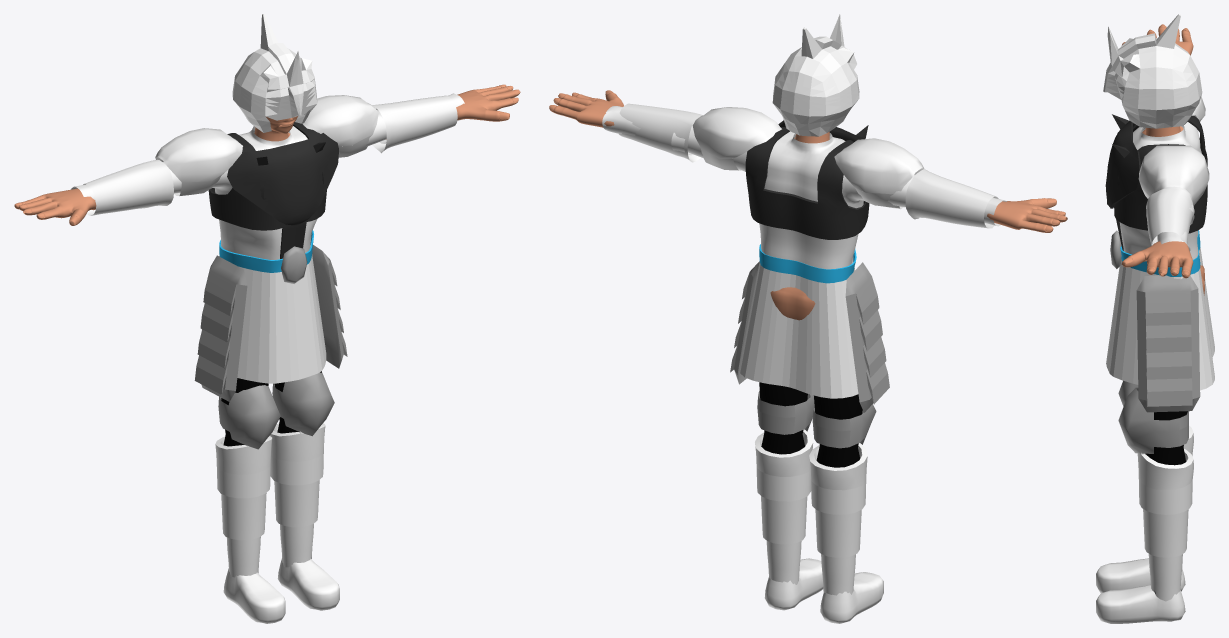
The model's file is chara_sisaku.fbx.
3 views of the same model, side by side, from view 1: azimuth 30°, elevation 25°; view 2: azimuth 150°, elevation 25°; view 3: azimuth 270°, elevation 25° (orthographic). The views are drawn at different scales.
Visible parts, largest first — view 1: polySurface120, polySurface116, polySurface111, pCube1, polySurface90, pCube9, polySurface114, pCube16, polySurface79, polySurface121, pCube12, polySurface89 (+7 smaller); view 2: polySurface120, pCube1, polySurface121, polySurface111, polySurface90, polySurface114, pCube9, pCube16, pCube12, polySurface79, polySurface89, polySurface124 (+7 smaller); view 3: pCube10, pCube1, polySurface120, polySurface90, pCube12, polySurface122, pCube13, polySurface114, polySurface116, polySurface121, polySurface89, polySurface124 (+5 smaller).
Part boxes in pixels (box(x1,y1,x2,y2)): polySurface120: box(71, 93, 464, 383); polySurface116: box(227, 133, 338, 225); polySurface111: box(215, 436, 272, 577); pCube1: box(232, 14, 317, 132); polySurface90: box(270, 423, 325, 567); pCube9: box(194, 255, 247, 401); polySurface114: box(14, 84, 520, 225); pCube16: box(155, 128, 242, 195); polySurface79: box(83, 159, 173, 215); polySurface121: box(208, 122, 326, 258); pCube12: box(302, 95, 378, 157); polySurface89: box(372, 95, 457, 153); polySurface120: box(602, 106, 1006, 398); pCube1: box(772, 14, 859, 136); polySurface121: box(745, 127, 869, 239); polySurface111: box(809, 443, 867, 595); polySurface90: box(755, 429, 813, 584); polySurface114: box(549, 90, 1067, 320); pCube9: box(845, 262, 889, 412); pCube16: box(834, 138, 924, 209); pCube12: box(692, 107, 781, 170); polySurface79: box(905, 169, 998, 228); polySurface89: box(619, 103, 702, 162); polySurface124: box(820, 572, 883, 623); pCube10: box(1136, 275, 1200, 412); pCube1: box(1103, 14, 1202, 128); polySurface120: box(1106, 122, 1214, 390); polySurface90: box(1137, 449, 1193, 601); pCube12: box(1138, 145, 1209, 205); polySurface122: box(1096, 584, 1185, 623); pCube13: box(1118, 387, 1188, 453); polySurface114: box(1121, 24, 1204, 295); polySurface116: box(1105, 114, 1140, 208); polySurface121: box(1114, 115, 1207, 250); polySurface89: box(1146, 188, 1193, 245); polySurface124: box(1096, 558, 1185, 593).
Bounding box in the file's own units: 13.73 × 15.22 × 2.77.
